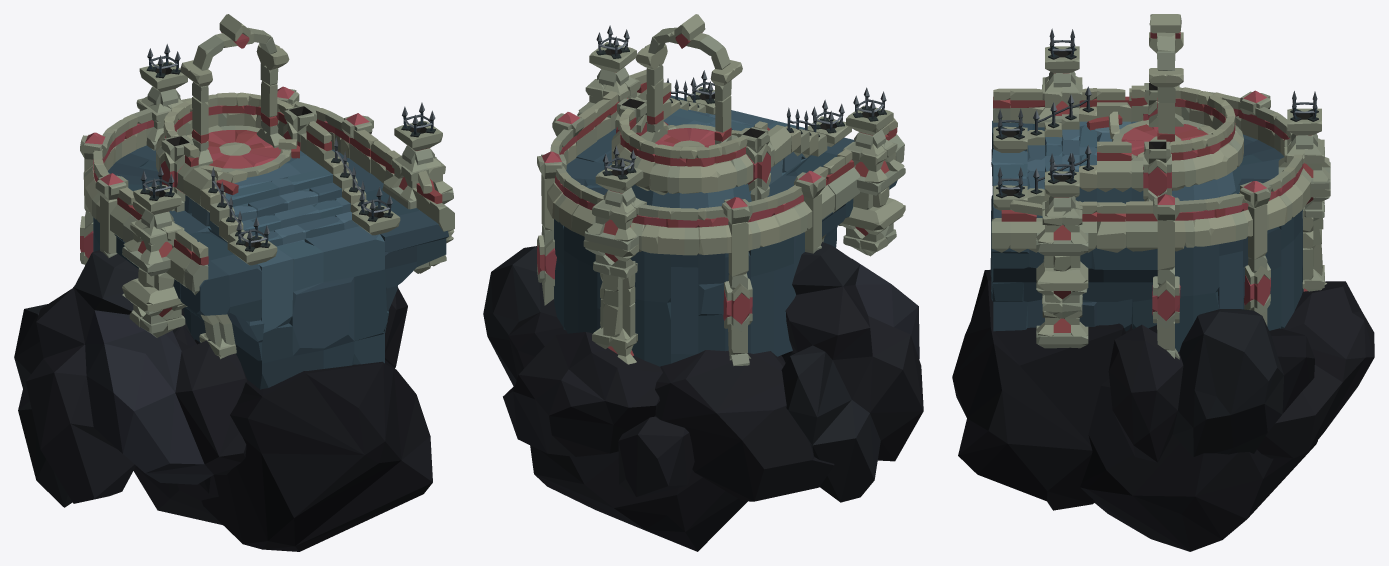
File: hallway_portal.fbx
3 renders of one model, left to right at view 1: azimuth 30°, elevation 25°; view 2: azimuth 150°, elevation 25°; view 3: azimuth 270°, elevation 25°, orthographic. The views are drawn at different scales.
Parts seen in each view (by area): view 1: hallway_portal; view 2: hallway_portal; view 3: hallway_portal.
Part boxes in pixels (box(x1,y1,x2,y2)): hallway_portal: box(14, 14, 454, 551); hallway_portal: box(483, 14, 923, 551); hallway_portal: box(952, 14, 1374, 551).
Bounding box in the file's own units: 1230 × 1630 × 1221.
